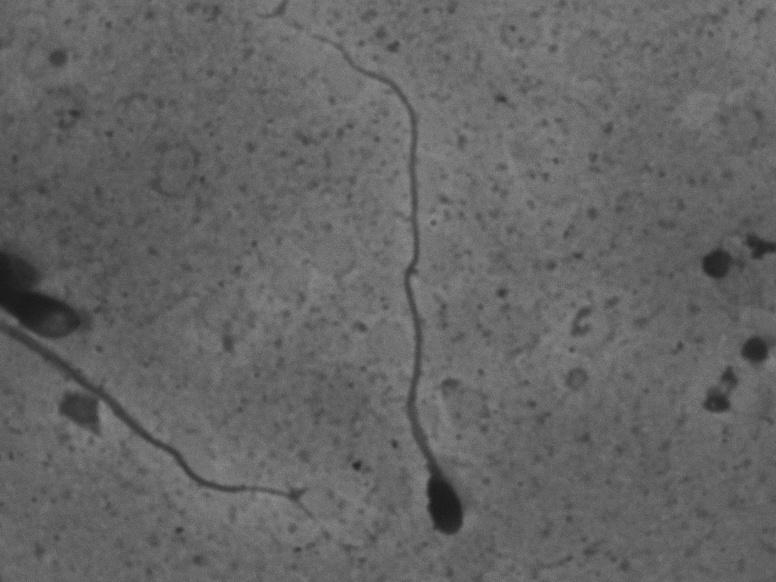Normal: (296, 18, 490, 551)
